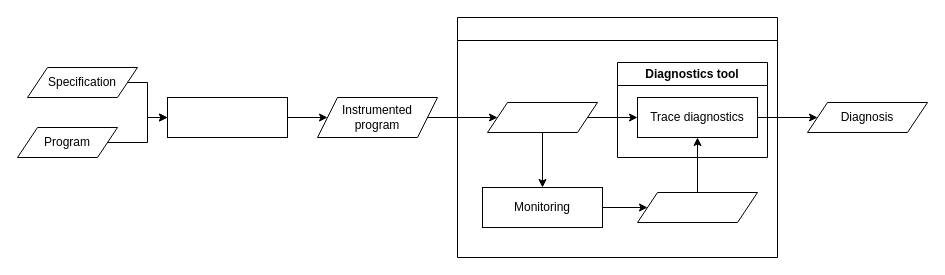
The diagram is 945 pixels wide and 275 high, and some of its shapes have lost their labels. The shapes that lost their labels are listed below. From the top down, each one's box as (x1, y1, x2, y2) in pixels, then its label:
(166, 96, 288, 138): Modified Instrumentation
(486, 102, 598, 132): Trace
(456, 16, 778, 258): Trace Checking
(636, 192, 758, 222): Verdict
